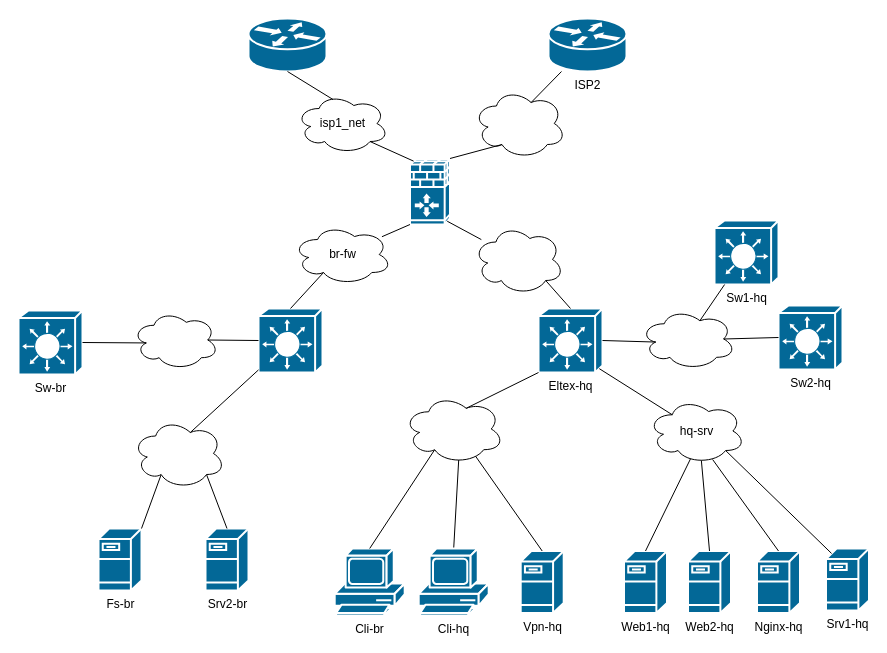
This 887x653 diagram has some shape labels left out. Here are the shapes that lost their labels. From the top down, the box of each, then its label:
(247, 17, 327, 72): ISP1
(472, 88, 566, 158): isp2_net
(472, 224, 564, 294): hq-fw
(132, 310, 218, 370): br-mgmt
(257, 307, 323, 373): Eltex-br
(640, 308, 736, 370): hq-mgmt
(403, 394, 504, 464): hq-admin
(132, 418, 225, 488): br-srv
